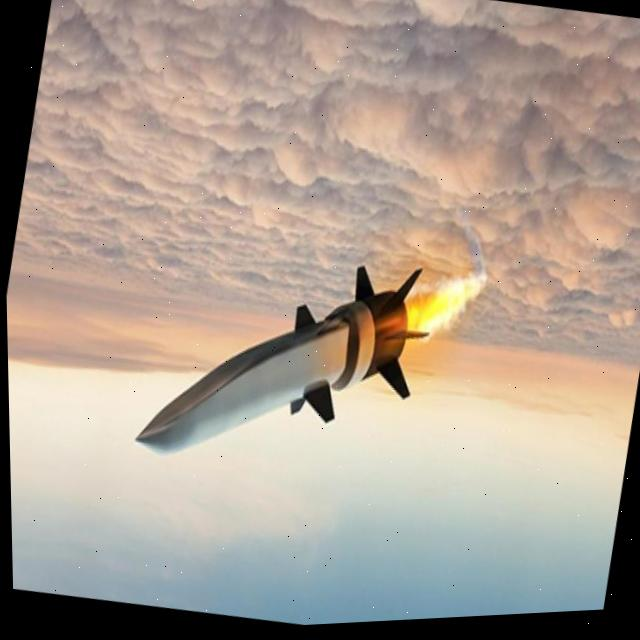missile: (123, 224, 429, 497)
